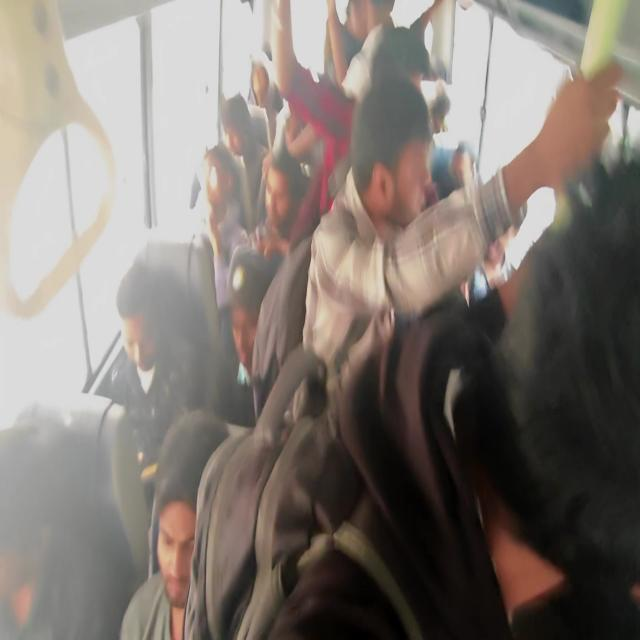person: (113, 2, 631, 636), (301, 52, 623, 384), (453, 151, 639, 637), (266, 291, 512, 638), (182, 343, 358, 638), (110, 237, 225, 578), (119, 407, 238, 638)
